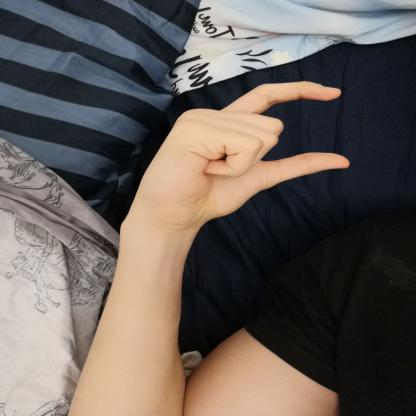DELL: (132, 69, 366, 229)
